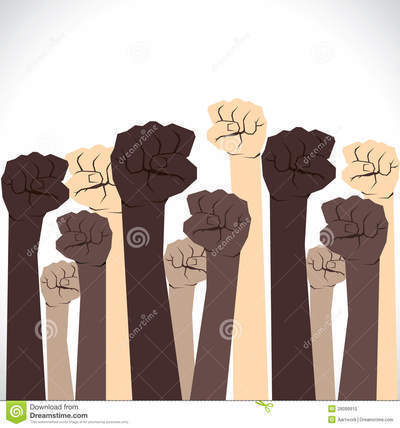closedhandfront: (118, 107, 207, 206), (259, 120, 341, 204), (312, 191, 400, 263), (64, 136, 130, 215), (1, 145, 70, 219), (196, 88, 272, 155), (54, 204, 126, 270), (155, 226, 221, 295), (336, 136, 397, 200), (33, 259, 93, 312), (300, 240, 354, 293)
